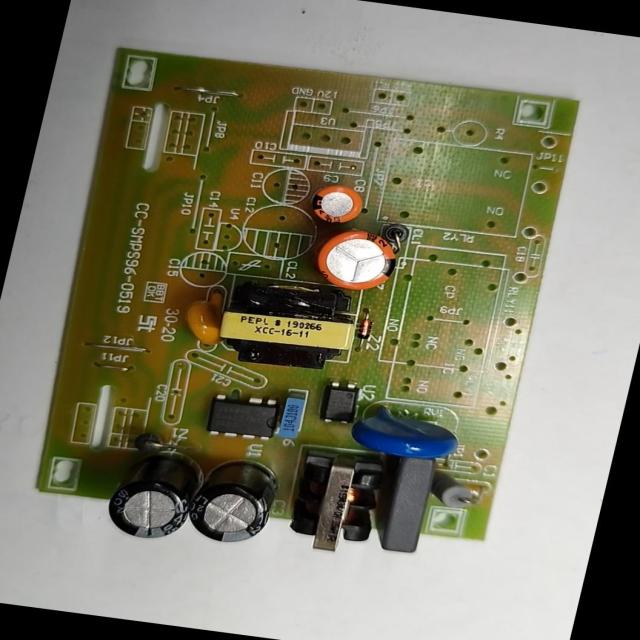Cap1: (310, 221, 404, 297)
Cap2: (307, 180, 369, 226)
Cap3: (186, 454, 286, 550)
Cap4: (102, 447, 204, 547)
MOSFET: (204, 388, 284, 446)
Mov: (348, 398, 468, 464)
Resistor: (429, 469, 484, 510)
Transformer: (215, 277, 367, 376), (286, 451, 394, 558)
